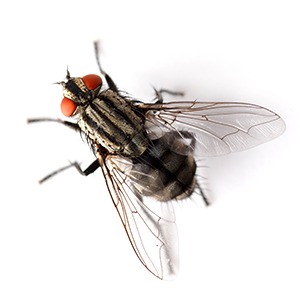house fly: (24, 35, 289, 286)
